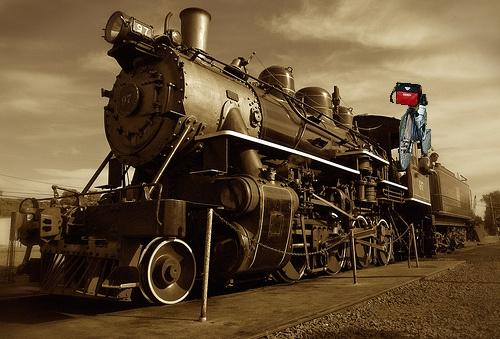tampered: (390, 83, 431, 170)
